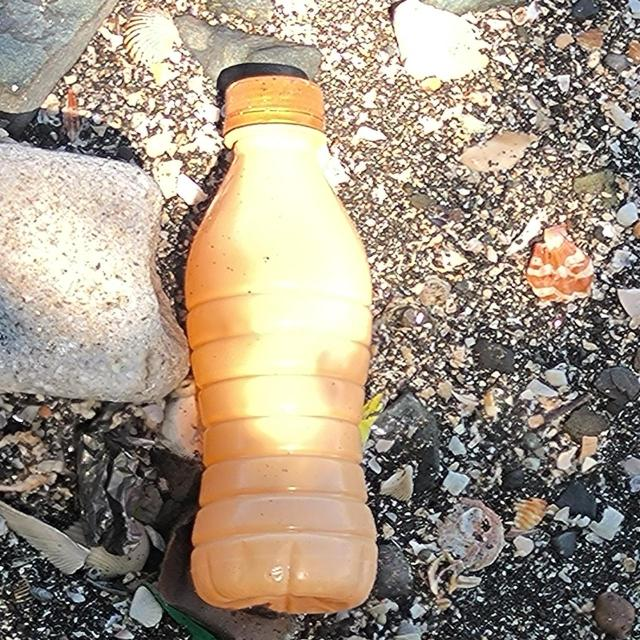plastic_waste: (182, 75, 384, 618)
